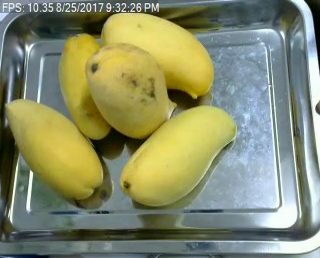Mango: (119, 105, 236, 209), (102, 10, 213, 100), (4, 99, 103, 199), (84, 43, 178, 138), (58, 33, 115, 138)
